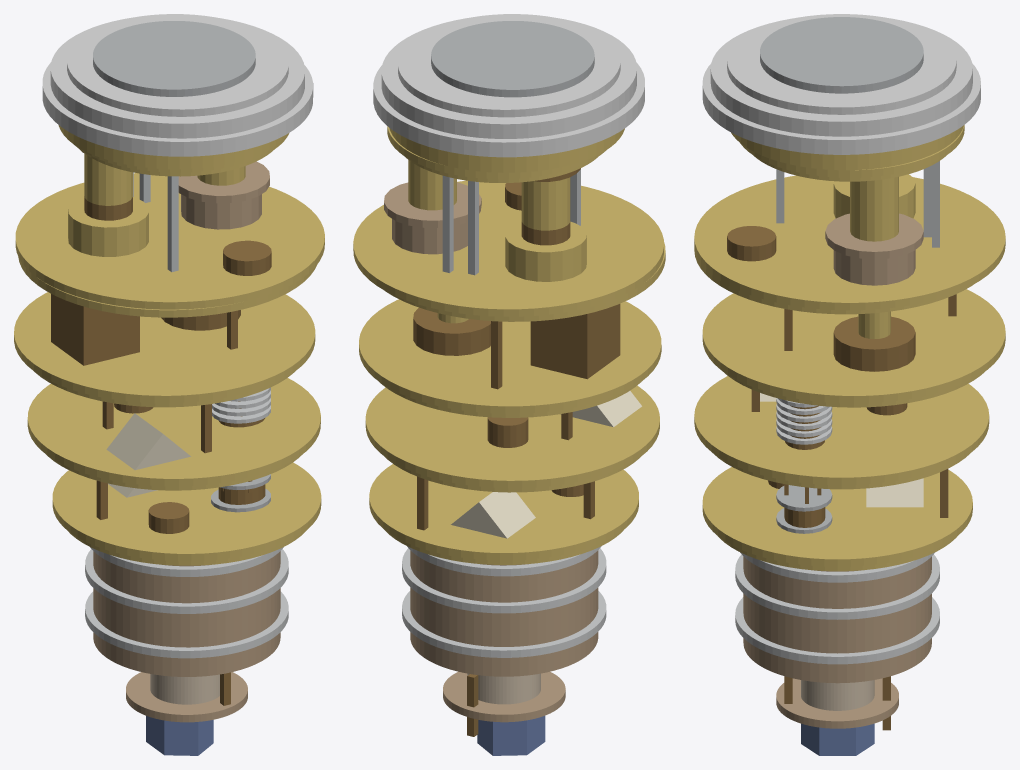
3 renders of one model, left to right at view 1: azimuth 30°, elevation 25°; view 2: azimuth 150°, elevation 25°; view 3: azimuth 270°, elevation 25°, orthographic.
Visible parts, largest first — view 1: Mesh_Mesh_head_geo.001_lambert2SG.001; view 2: Mesh_Mesh_head_geo.001_lambert2SG.001; view 3: Mesh_Mesh_head_geo.001_lambert2SG.001.
Boxes of the visible parts, bbox=[...] form: Mesh_Mesh_head_geo.001_lambert2SG.001: bbox=[14, 14, 324, 755]; Mesh_Mesh_head_geo.001_lambert2SG.001: bbox=[353, 14, 665, 755]; Mesh_Mesh_head_geo.001_lambert2SG.001: bbox=[694, 14, 1005, 755].
Bounding box in the file's own units: 38 × 93 × 38.
